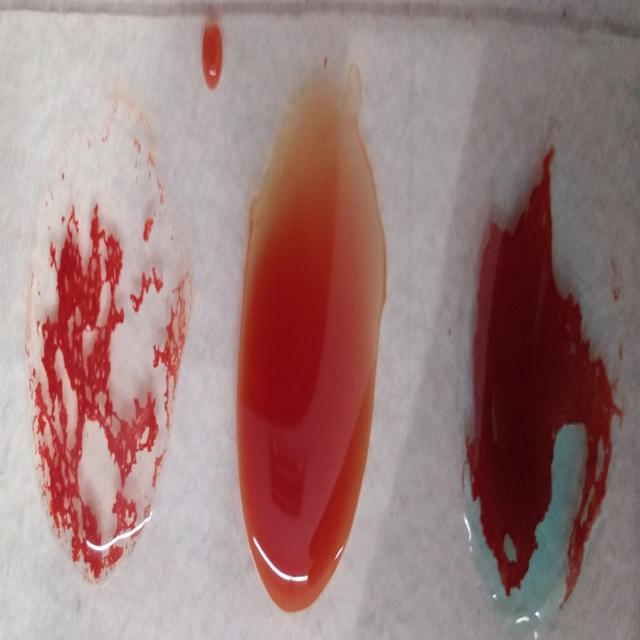A: (457, 155, 625, 628)
D: (25, 78, 176, 585)
